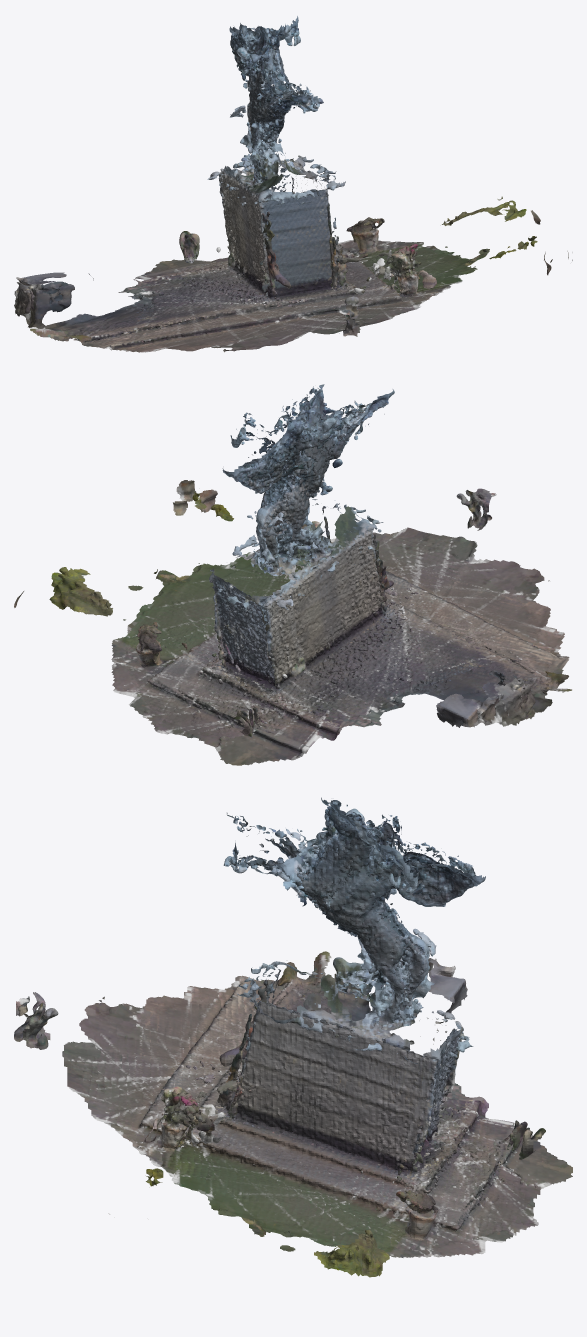
The model's file is diponegoro-monas-vggt.glb.
3 views of the same model, one above another, from view 1: azimuth 30°, elevation 25°; view 2: azimuth 150°, elevation 25°; view 3: azimuth 270°, elevation 25° (orthographic). The views are drawn at different scales.
Visible parts, largest first — view 1: geometry_0; view 2: geometry_0; view 3: geometry_0.
Part boxes in pixels (x1,y1,x2,y2): geometry_0: [14, 16, 572, 352]; geometry_0: [14, 384, 571, 765]; geometry_0: [14, 797, 572, 1277].
Size of the model in its own units: 1.65 by 0.8975 by 1.19.
